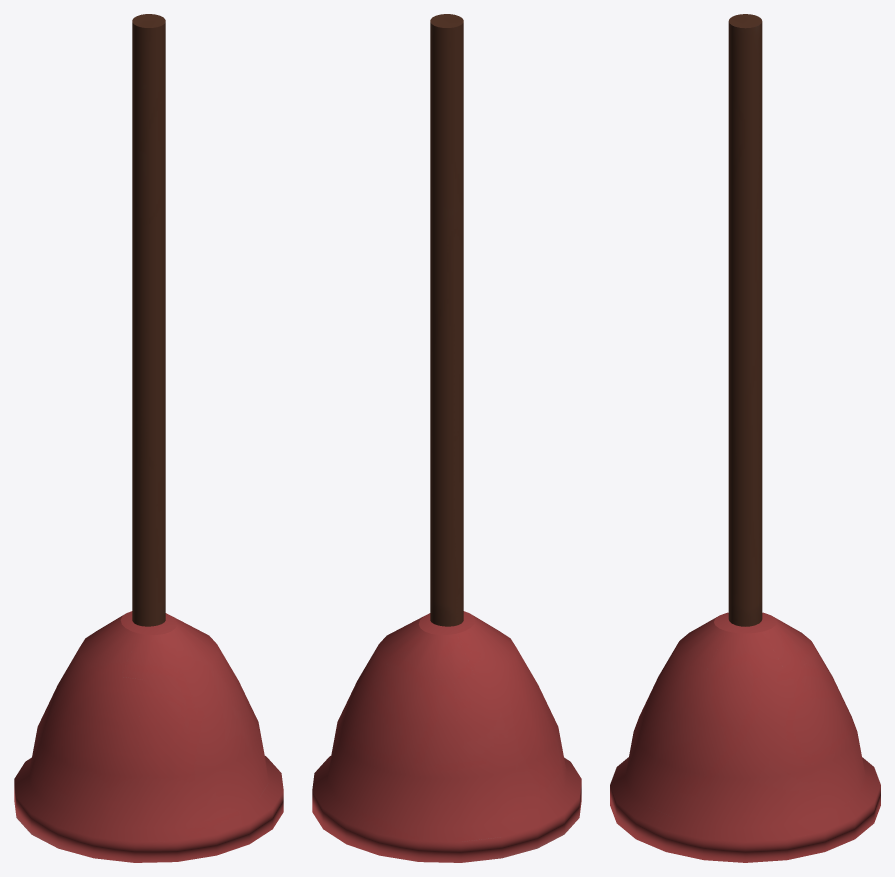
File: plunger.fbx
3 views of the same model, side by side, from view 1: azimuth 30°, elevation 25°; view 2: azimuth 150°, elevation 25°; view 3: azimuth 270°, elevation 25° (orthographic).
Parts seen in each view (by area): view 1: pCylinder3; view 2: pCylinder3; view 3: pCylinder3.
Part boxes in pixels (x1=…): pCylinder3: x1=14, y1=14, x2=283, y2=862; pCylinder3: x1=312, y1=14, x2=581, y2=862; pCylinder3: x1=610, y1=14, x2=880, y2=862.
Size of the model in its own units: 6.26 by 20 by 6.25.
Materials: 1 (1 with a texture image).
